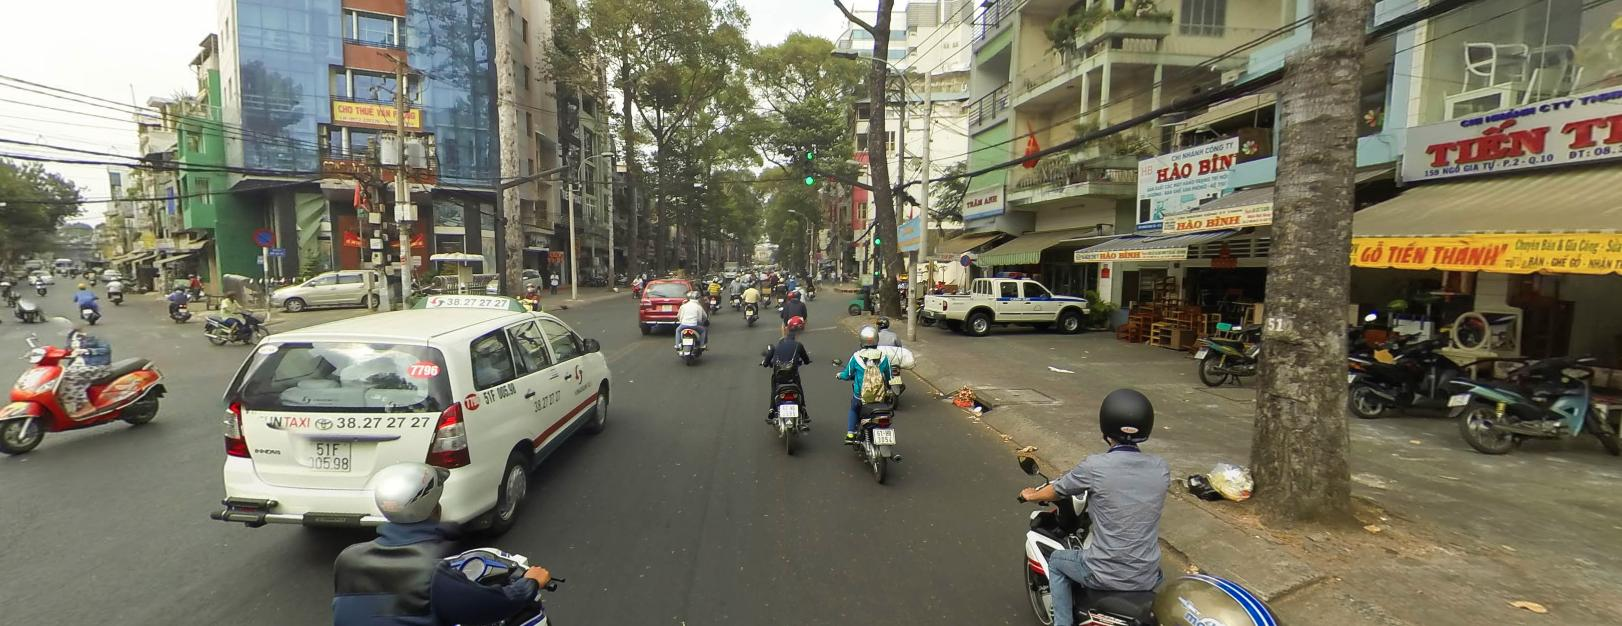Cam dung va do: (253, 226, 274, 245), (959, 254, 970, 264), (815, 250, 821, 258)
